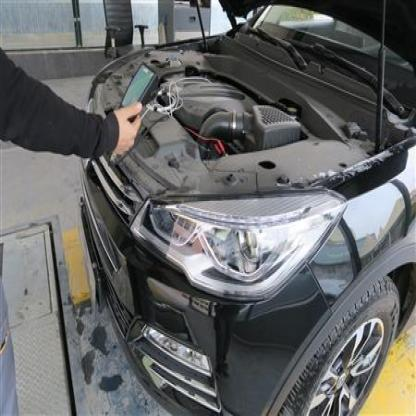Car: (77, 4, 416, 416)
